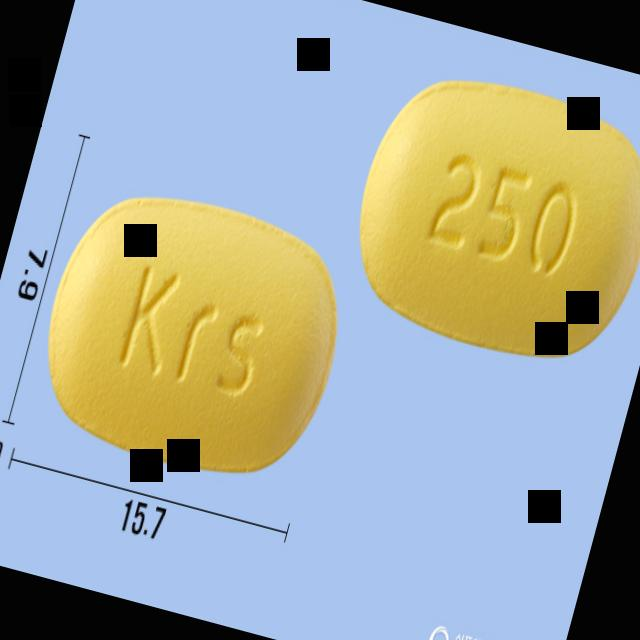Clomicin: (19, 168, 364, 498), (332, 55, 640, 383)
